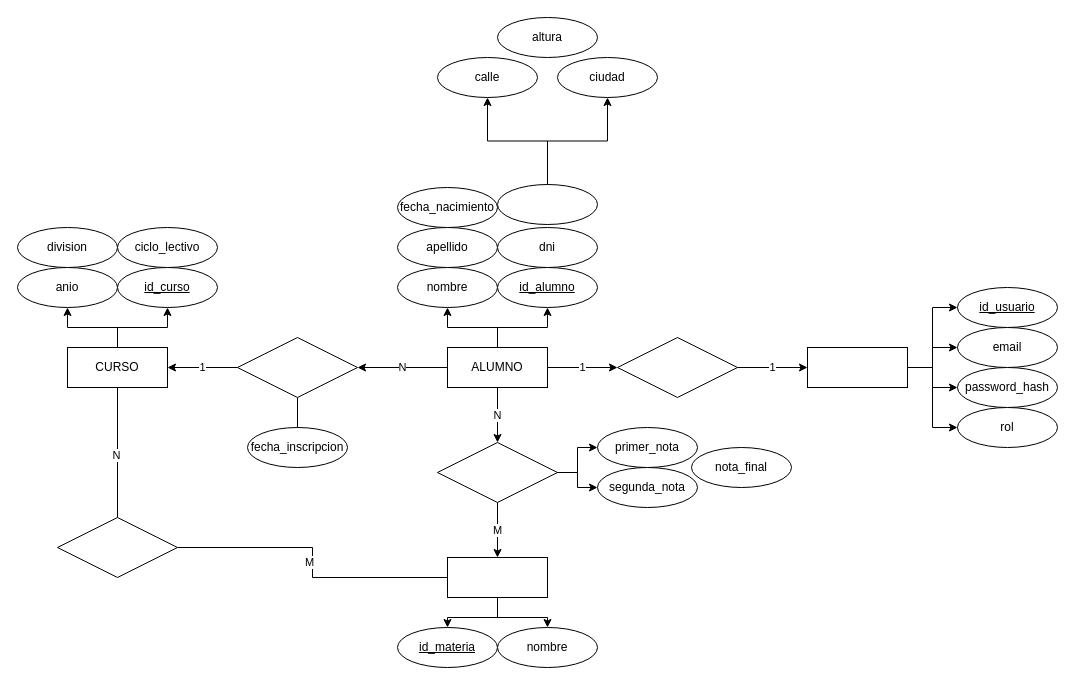
The diagram is 1075 pixels wide and 685 high, and some of its shapes have lost their labels. The box of each missing label's shape, as (x1, y1, x2, y2) in pixels:
cursa: (436, 442, 558, 502)
dicta: (56, 516, 178, 578)
domicilio: (496, 184, 598, 224)
inscribe: (236, 336, 358, 398)
MATERIA: (446, 556, 548, 598)
tiene: (616, 336, 738, 398)
USUARIO: (806, 346, 908, 388)
